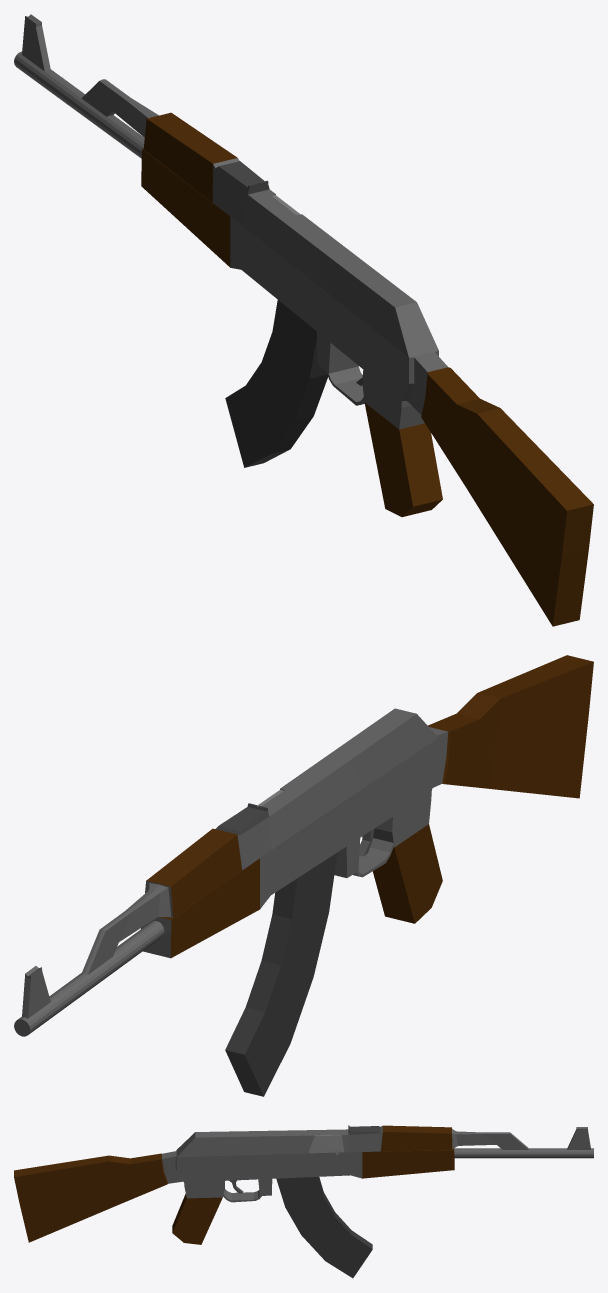
The picture shows the model from 3 angles, top to bottom: view 1: azimuth 30°, elevation 25°; view 2: azimuth 150°, elevation 25°; view 3: azimuth 270°, elevation 25°; orthographic projection. The views are drawn at different scales.
Parts seen in each view (by area): view 1: Cube, Cube.001; view 2: Cube, Cube.001; view 3: Cube, Cube.001, Cube.003.
Part boxes in pixels (x1,y1,x2,y2): Cube: [14, 14, 593, 626]; Cube.001: [225, 300, 327, 467]; Cube: [14, 655, 593, 1036]; Cube.001: [225, 852, 337, 1096]; Cube: [14, 1125, 593, 1244]; Cube.001: [276, 1177, 372, 1278]; Cube.003: [308, 1134, 344, 1154].
Bounding box in the file's own units: 41.84 × 266 × 943.
